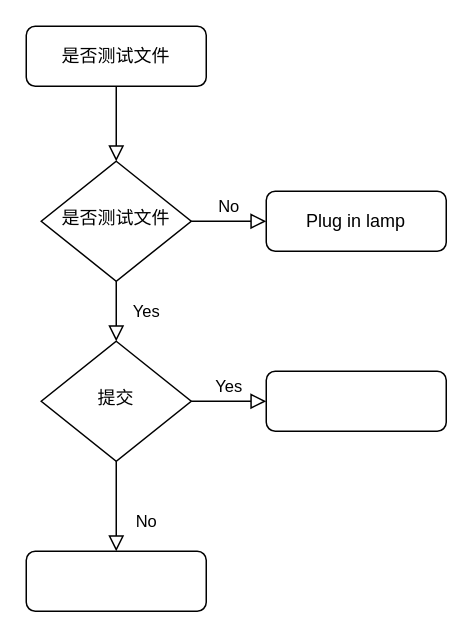
Image size: 473x638. Some labels were removed from this diagram. The box of each missing label's shape, as (x1, y1, x2, y2) in pixels:
Repair Lamp: (25, 550, 206, 611)
Replace Bulb: (265, 370, 446, 431)
